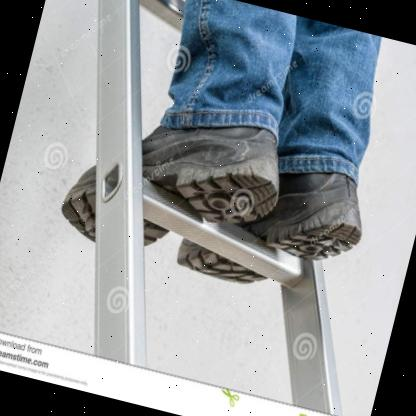bota: (53, 80, 300, 288), (172, 134, 380, 312)
